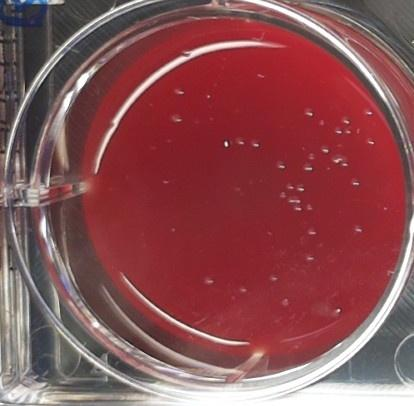pdpiscicida: (287, 196, 303, 214), (333, 153, 349, 169), (169, 110, 185, 125), (202, 274, 217, 290), (248, 137, 262, 151), (302, 105, 316, 119), (352, 224, 365, 238), (172, 85, 186, 98), (362, 107, 375, 120), (349, 176, 362, 189), (306, 225, 319, 238), (268, 272, 281, 285), (275, 158, 287, 172), (233, 136, 246, 148), (340, 116, 353, 128), (364, 136, 377, 148), (302, 162, 315, 174), (303, 252, 316, 264), (236, 283, 249, 295), (319, 143, 330, 155), (333, 126, 344, 137), (280, 296, 291, 307), (296, 182, 306, 193), (286, 181, 296, 192)
